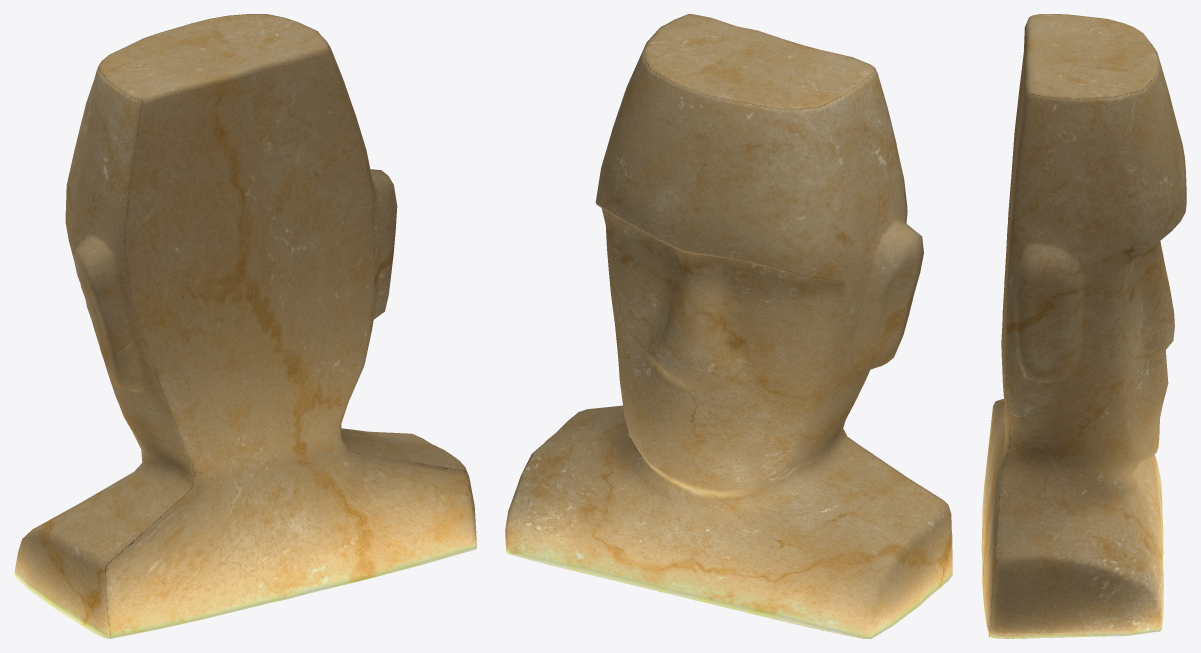
File: Statute2 (5.1, -4.89943, 1.2).glb
The picture shows the model from 3 angles, left to right: view 1: azimuth 30°, elevation 25°; view 2: azimuth 150°, elevation 25°; view 3: azimuth 270°, elevation 25°; orthographic projection. The views are drawn at different scales.
Parts seen in each view (by area): view 1: Statue 3.001; view 2: Statue 3.001; view 3: Statue 3.001.
Boxes of the visible parts, bbox=[...] form: Statue 3.001: bbox=[14, 14, 476, 638]; Statue 3.001: bbox=[505, 14, 952, 638]; Statue 3.001: bbox=[981, 14, 1186, 638].
Size of the model in its own units: 0.4627 by 0.5994 by 0.2292.
Materials: 1 (1 with a texture image).
